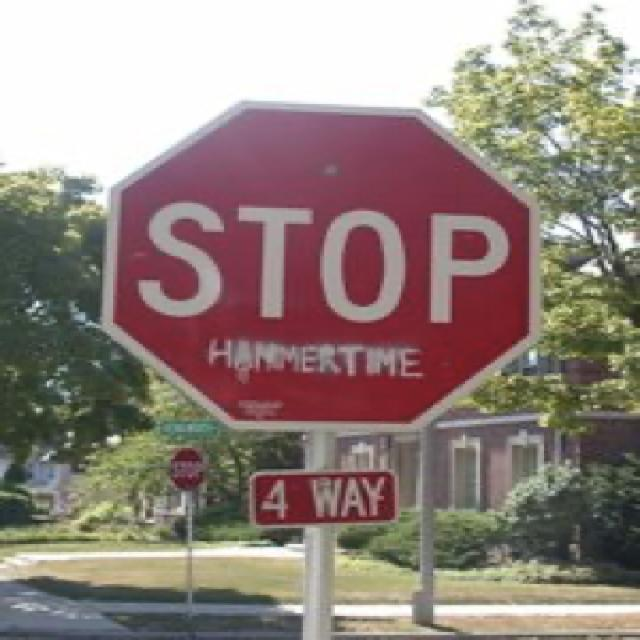stop: (98, 96, 544, 434)
